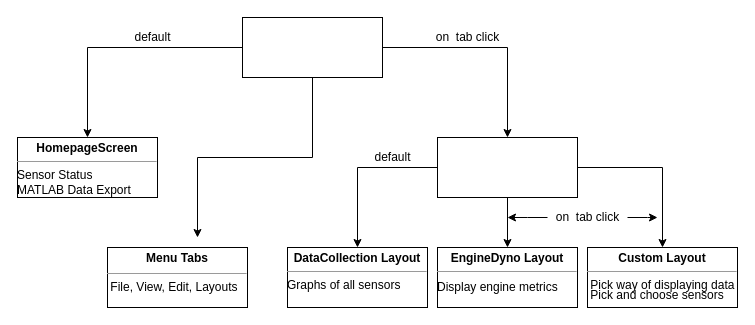
This 755x325 diagram has some shape labels left out. The centre of each missing label's shape, as x and y in pixels:
"LayoutsScreen" goes at point (507, 167).
"MainWindow" goes at point (312, 47).
